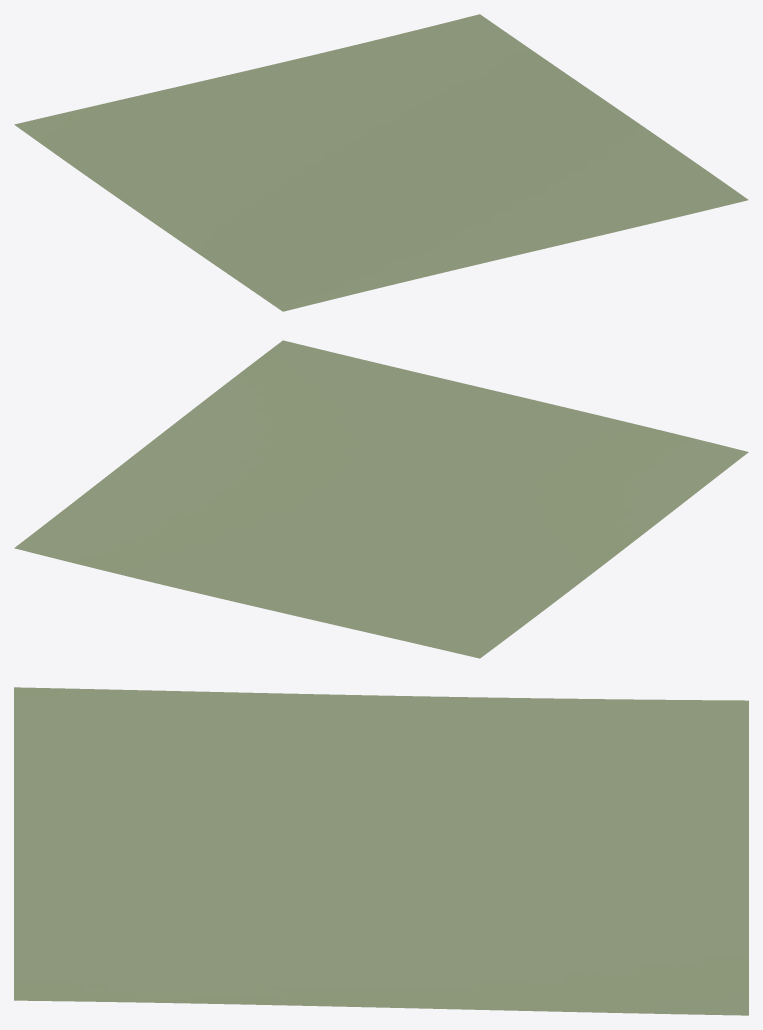
Rendered from expanse-3-14.glb.
3 renders of one model, top to bottom at view 1: azimuth 30°, elevation 25°; view 2: azimuth 150°, elevation 25°; view 3: azimuth 270°, elevation 25°, orthographic. The views are drawn at different scales.
Visible parts, largest first — view 1: expanse-3-14; view 2: expanse-3-14; view 3: expanse-3-14.
Part boxes in pixels (x1,y1,x2,y2): expanse-3-14: [14, 14, 748, 311]; expanse-3-14: [14, 340, 748, 658]; expanse-3-14: [14, 687, 748, 1015].
Size of the model in its own units: 256 by 7.19 by 256.
